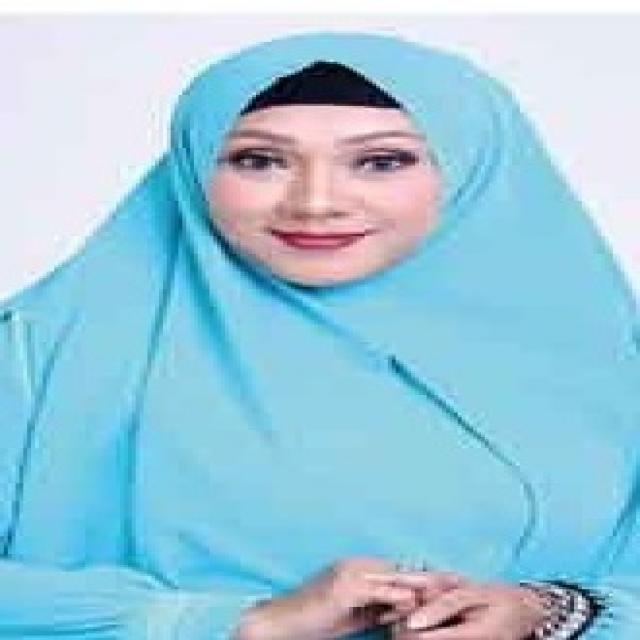head: (145, 29, 514, 300)
